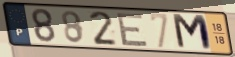2: (88, 10, 120, 47)
7: (149, 12, 172, 50)
8: (30, 7, 58, 44), (60, 10, 85, 45)
E: (116, 12, 150, 47)
M: (170, 13, 215, 53)
